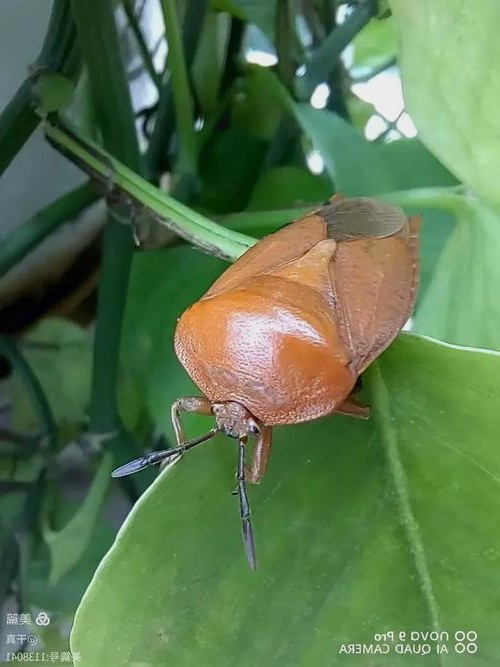Stink_Bug: (162, 186, 418, 432)
